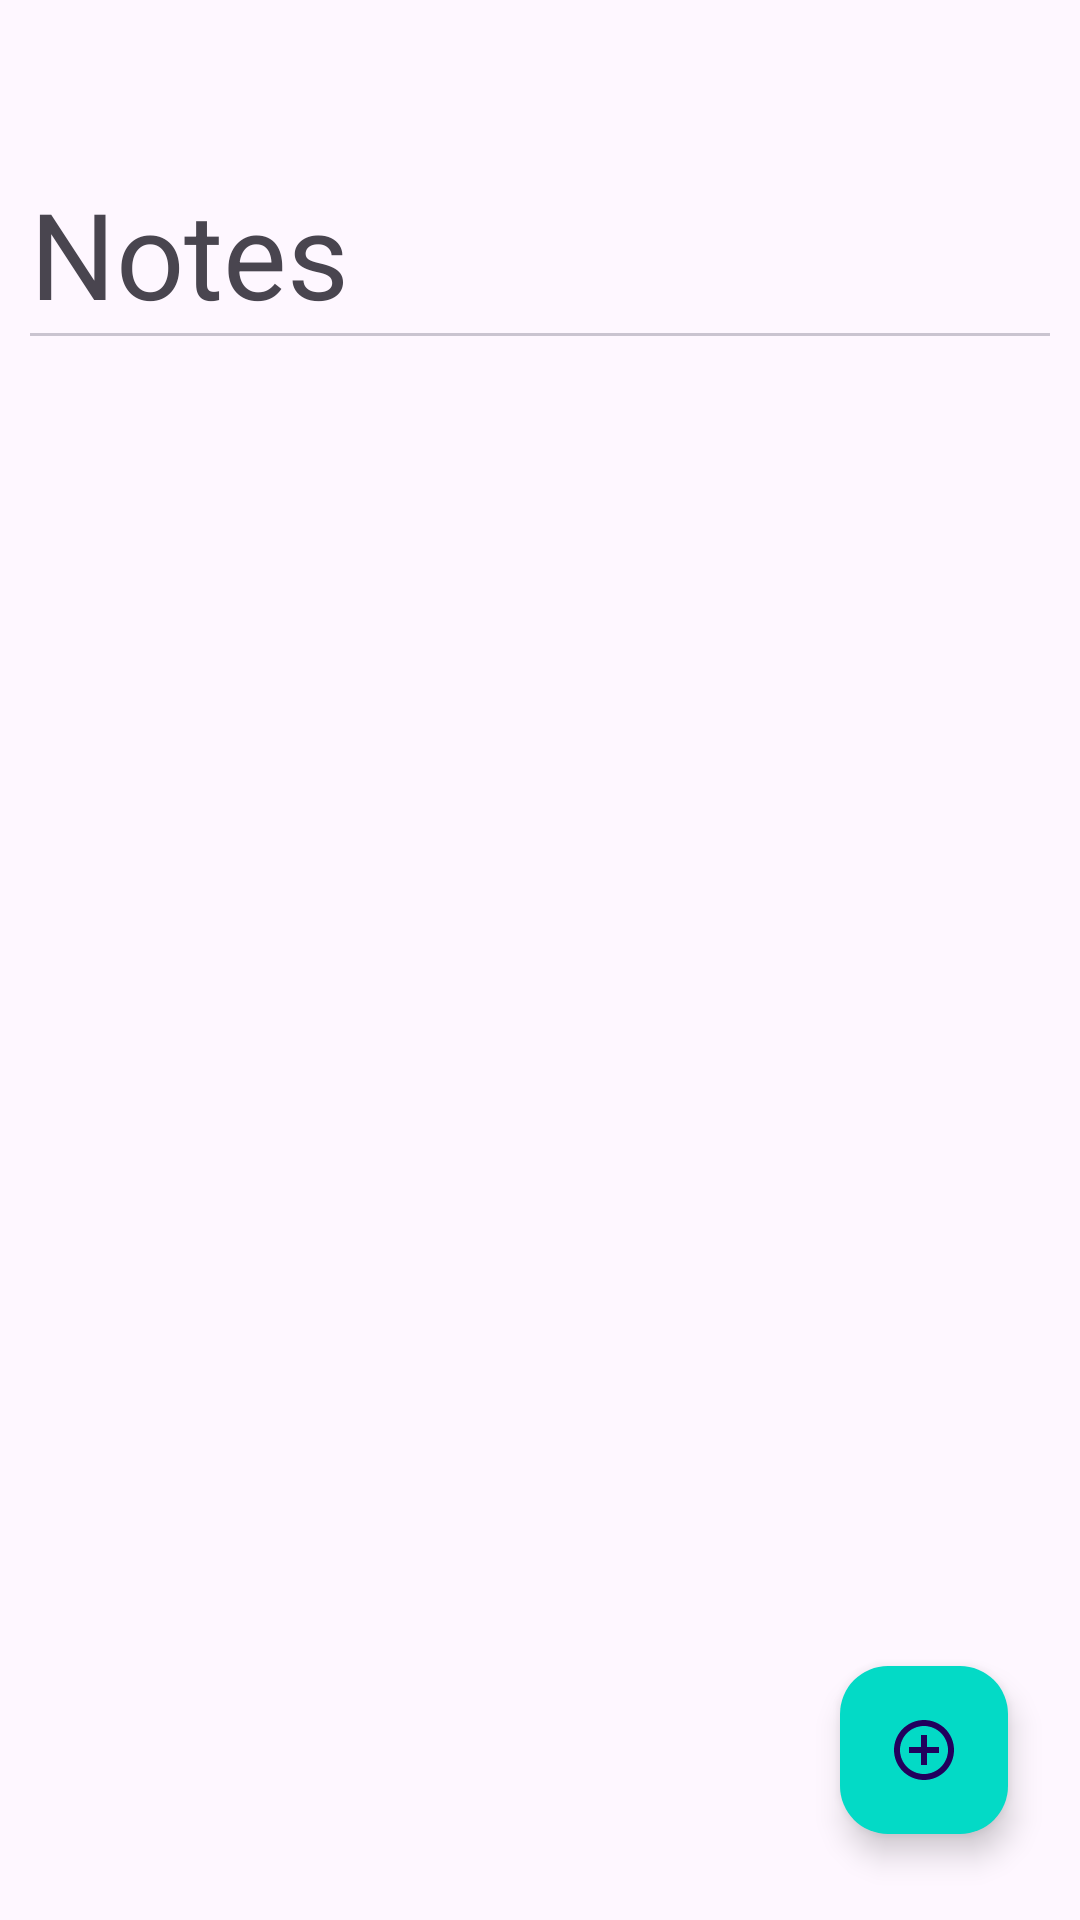

Named icons in this screenshot (1080w x 1920h) and their centers, point (x, y):
add: point (924, 1750)
